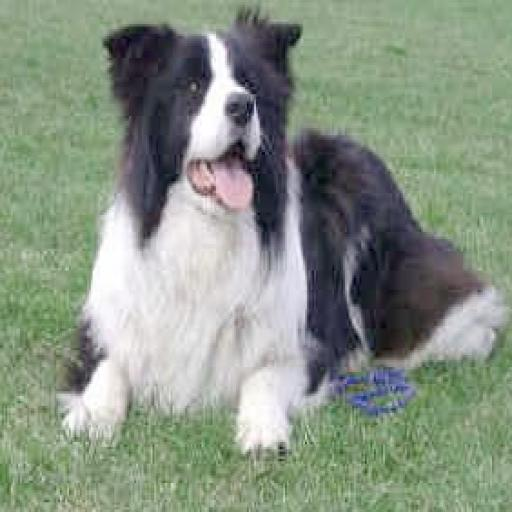dog_face: (107, 2, 296, 220)
